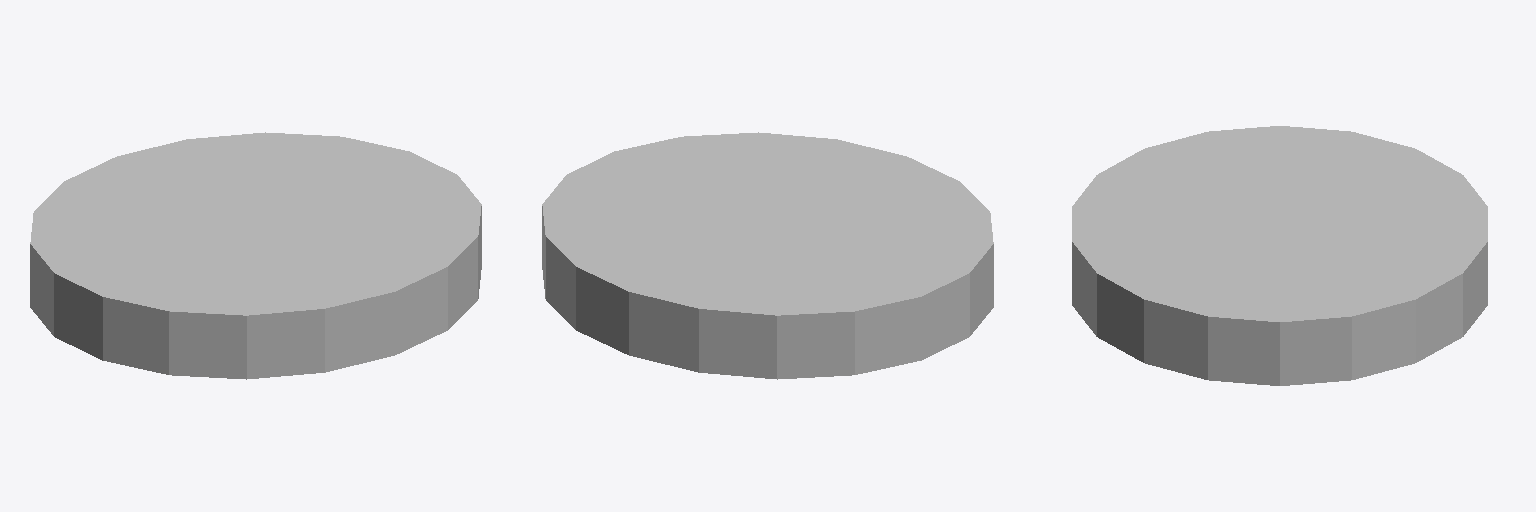
File: original-10.obj
3 views of the same model, side by side, from view 1: azimuth 30°, elevation 25°; view 2: azimuth 150°, elevation 25°; view 3: azimuth 270°, elevation 25° (orthographic).
Parts seen in each view (by area): view 1: mesh7/mesh7-geometry#mesh7-geometry; view 2: mesh7/mesh7-geometry#mesh7-geometry; view 3: mesh7/mesh7-geometry#mesh7-geometry.
Part boxes in pixels (x1,y1,x2,y2): mesh7/mesh7-geometry#mesh7-geometry: (30,132,481,379); mesh7/mesh7-geometry#mesh7-geometry: (542,132,993,379); mesh7/mesh7-geometry#mesh7-geometry: (1072,126,1487,385).
Size of the model in its own units: 0.0644 by 0.0097 by 0.0576.